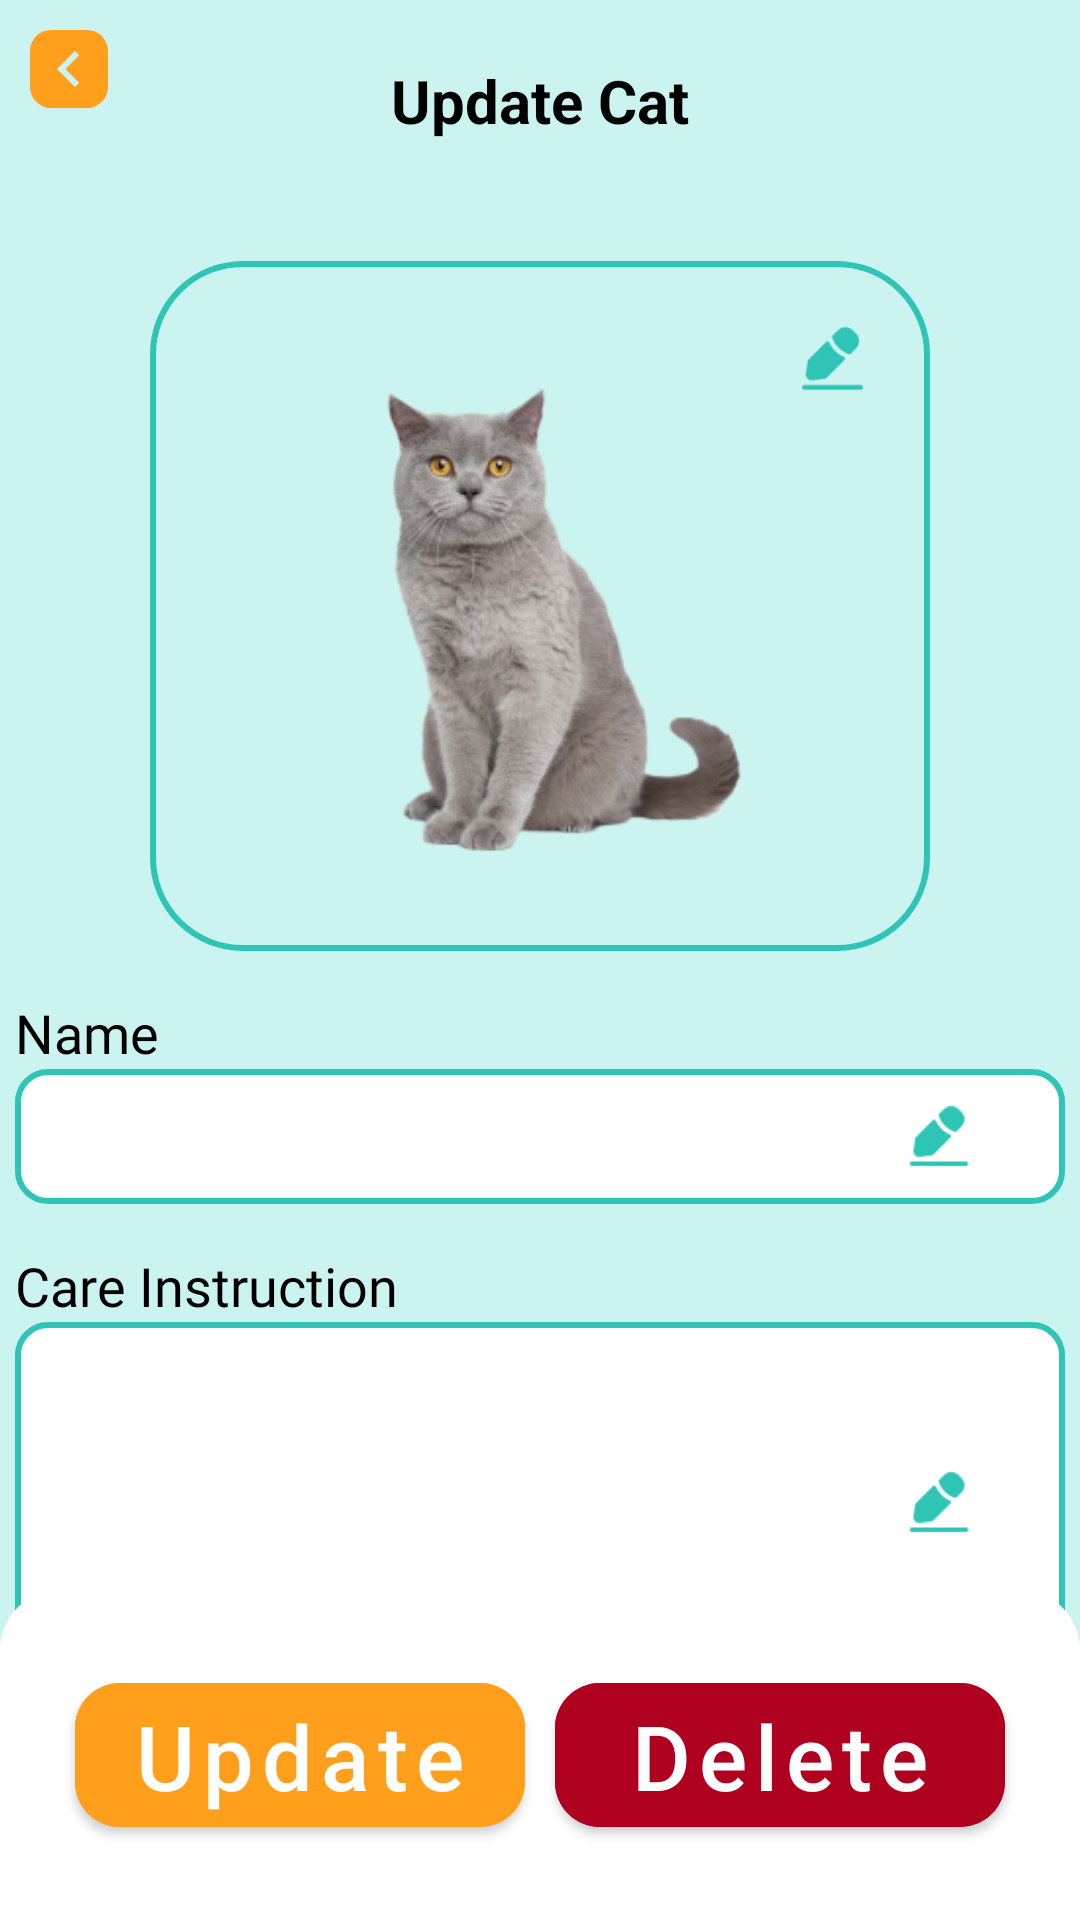

Icon click points for this 1080px x 1920px phone screenshot, format [x,y]:
cheveron: [69,69]
edit cat: [832,358]
